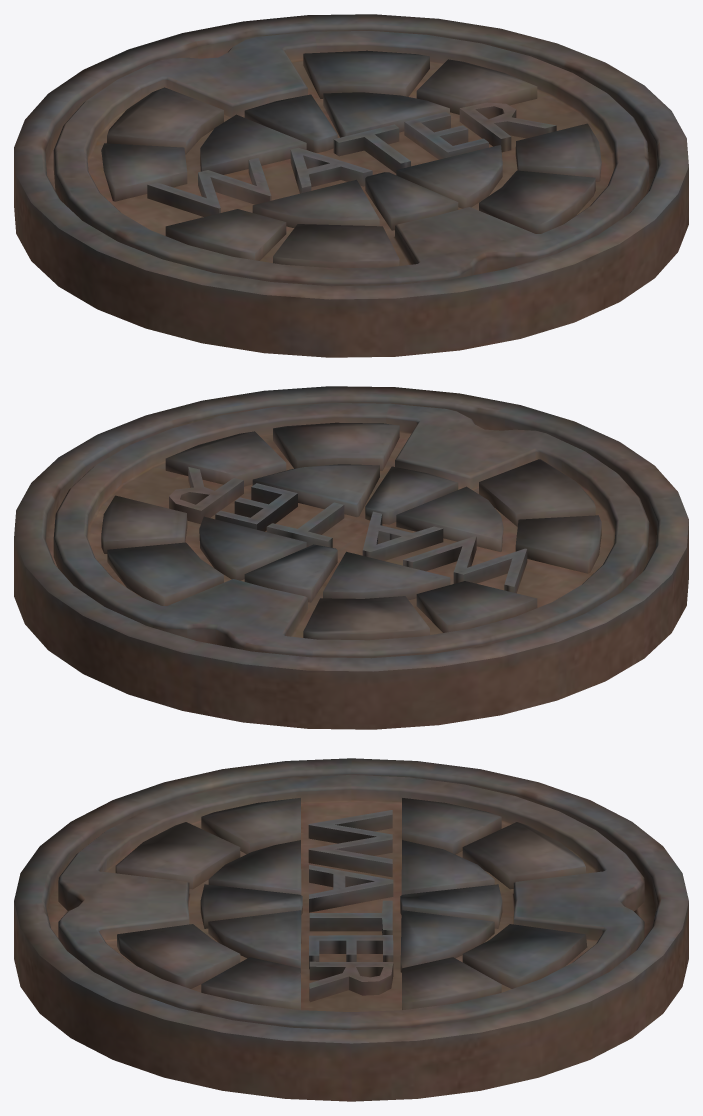
The model's file is manhole.glb.
3 renders of one model, top to bottom at view 1: azimuth 30°, elevation 25°; view 2: azimuth 150°, elevation 25°; view 3: azimuth 270°, elevation 25°, orthographic.
Visible parts, largest first — view 1: water_manhole_cover, water_manhole_cover_frame; view 2: water_manhole_cover, water_manhole_cover_frame; view 3: water_manhole_cover, water_manhole_cover_frame.
Boxes of the visible parts, x1,y1,x2,y2 form: water_manhole_cover: (53, 31, 649, 286); water_manhole_cover_frame: (14, 14, 688, 357); water_manhole_cover: (53, 403, 649, 658); water_manhole_cover_frame: (14, 386, 688, 729); water_manhole_cover: (58, 775, 644, 1030); water_manhole_cover_frame: (14, 758, 688, 1101).
Size of the model in its own units: 0.6908 by 0.0676 by 0.6908.
Materials: 1 (1 with a texture image).
